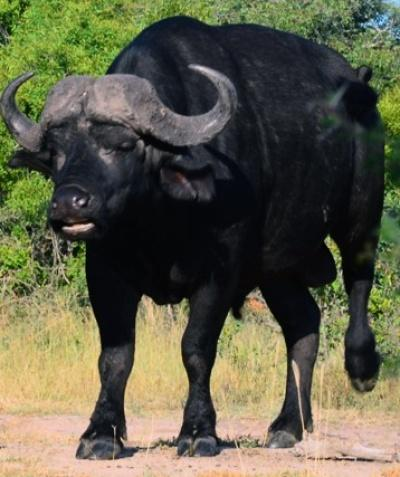buffalo: (0, 20, 387, 460)
